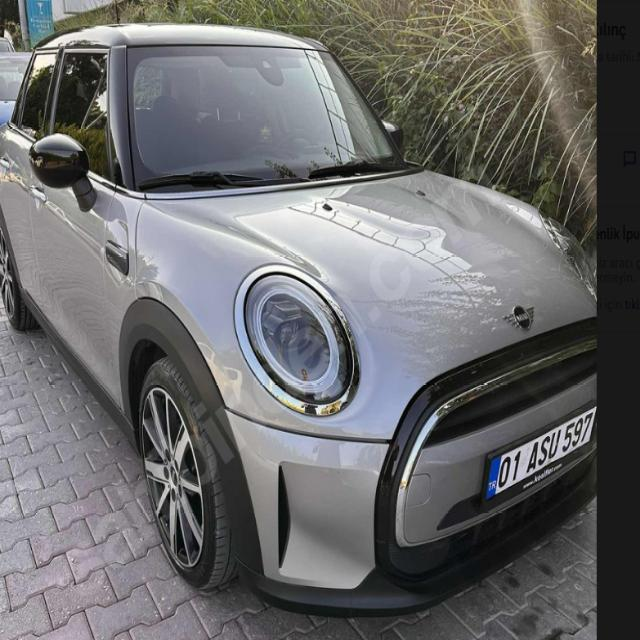mini: (498, 297, 544, 333)
